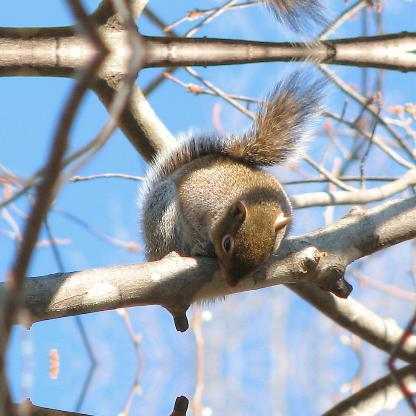Squirrel: (136, 55, 340, 308)
